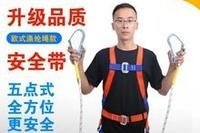safety belt: (97, 49, 158, 126)
